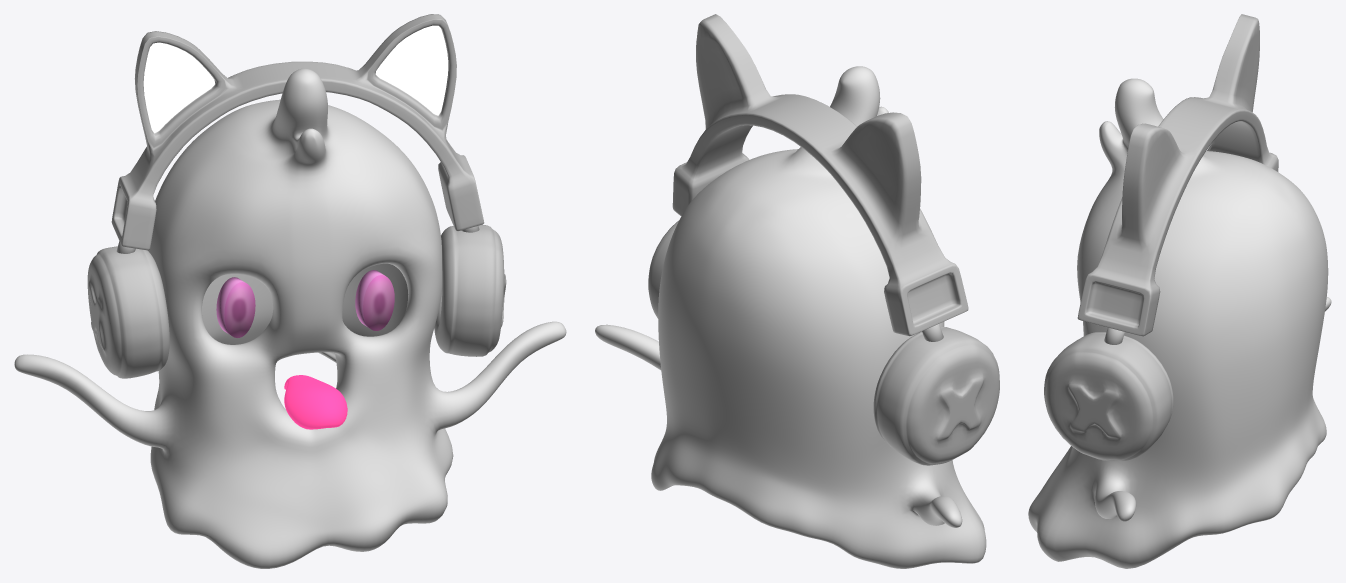
The model's file is Modelo_fantasma.fbx.
3 views of the same model, side by side, from view 1: azimuth 30°, elevation 25°; view 2: azimuth 150°, elevation 25°; view 3: azimuth 270°, elevation 25° (orthographic). The views are drawn at different scales.
Visible parts, largest first — view 1: Cuerpo retopologia, Cylinder.007, Cube.003, Cylinder.008, Lengua; view 2: Cuerpo retopologia, Cylinder.007, Cube.003; view 3: Cuerpo retopologia, Cylinder.007, Cube.003.
Boxes of the visible parts, x1=… form: Cuerpo retopologia: x1=14, y1=68, x2=566, y2=568; Cylinder.007: x1=111, y1=14, x2=484, y2=250; Cube.003: x1=87, y1=224, x2=506, y2=378; Cylinder.008: x1=216, y1=270, x2=394, y2=337; Lengua: x1=284, y1=375, x2=347, y2=429; Cuerpo retopologia: x1=595, y1=66, x2=986, y2=568; Cylinder.007: x1=672, y1=14, x2=968, y2=336; Cube.003: x1=648, y1=220, x2=999, y2=465; Cuerpo retopologia: x1=1028, y1=78, x2=1331, y2=568; Cylinder.007: x1=1077, y1=14, x2=1278, y2=336; Cube.003: x1=1044, y1=332, x2=1173, y2=461.
Bounding box in the file's own units: 524 × 529 × 310.
